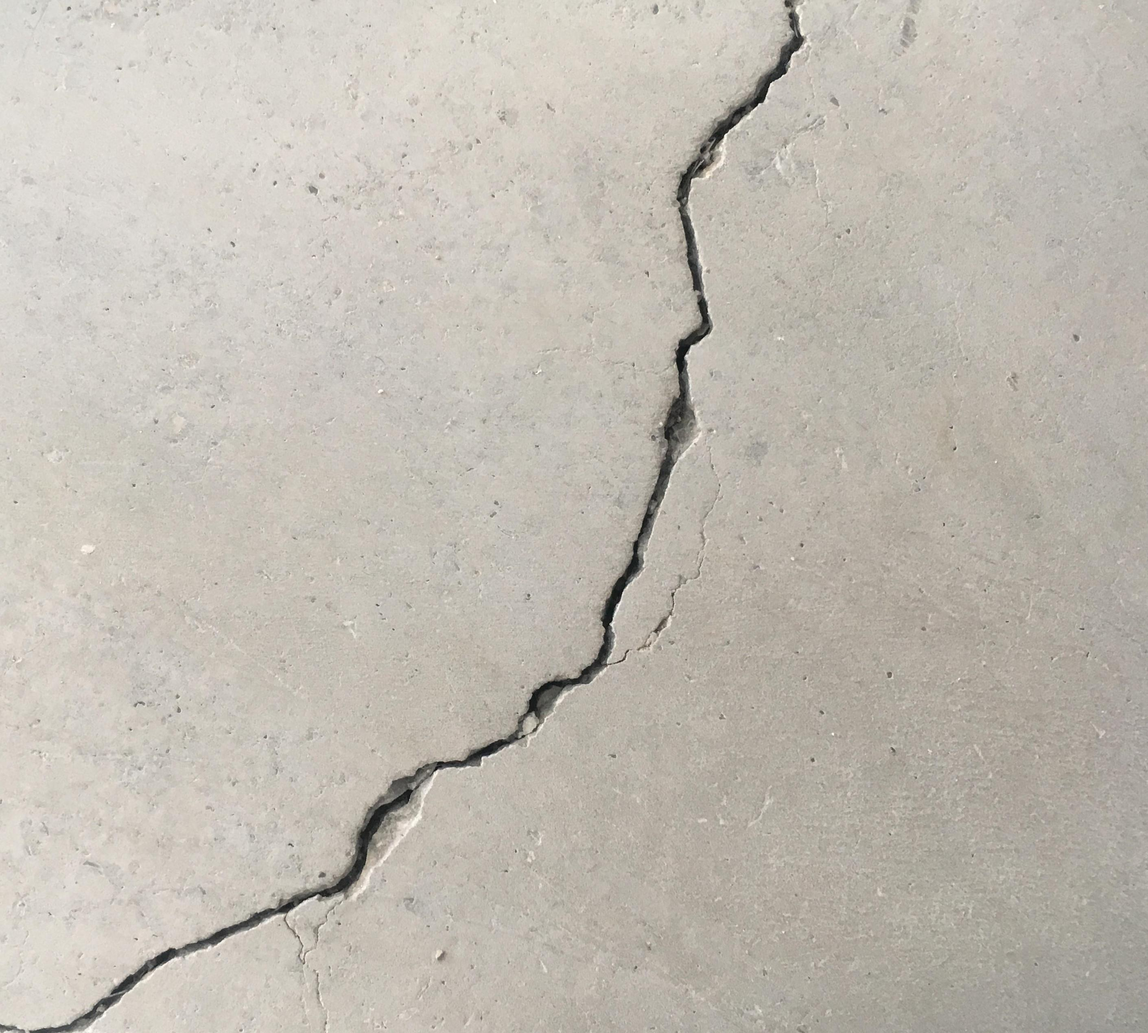Diagonal Crack: (28, 2, 813, 1028)
